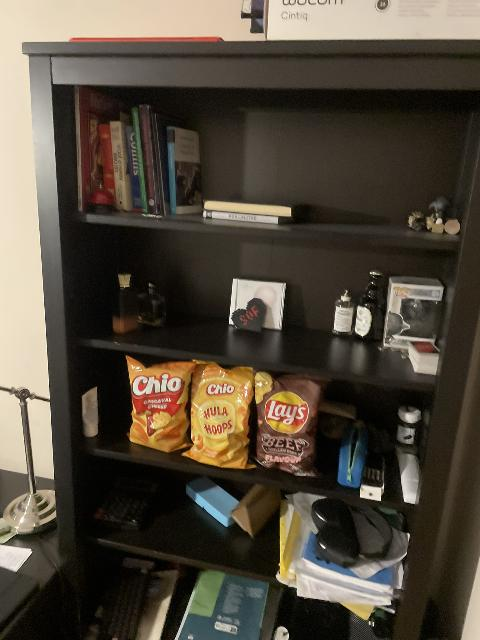Chio Cascaval 125g: (124, 356, 197, 454)
Chio Hula Hoops Cheese 70g: (183, 362, 260, 470)
Lays Beef Grilled Ribs 125g: (254, 371, 324, 476)
